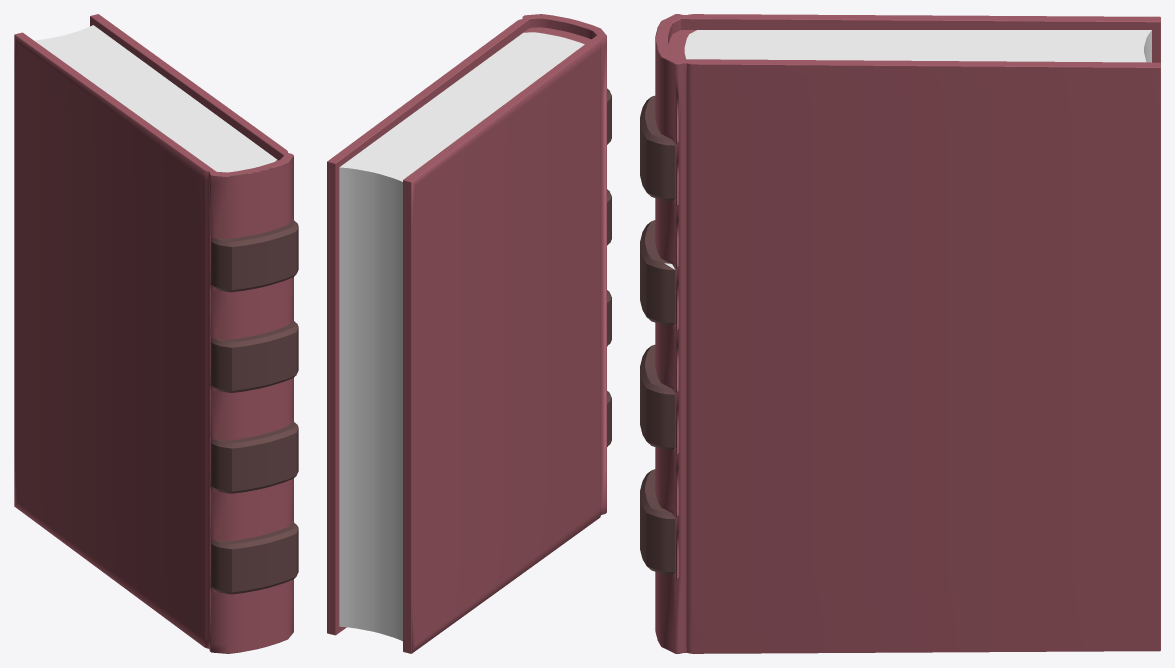
File: Book.fbx
3 views of the same model, side by side, from view 1: azimuth 30°, elevation 25°; view 2: azimuth 150°, elevation 25°; view 3: azimuth 270°, elevation 25° (orthographic). The views are drawn at different scales.
Parts seen in each view (by area): view 1: Book2; view 2: Book2; view 3: Book2.
Part boxes in pixels (x1,y1,x2,y2): Book2: (14,14,298,653); Book2: (327,14,611,653); Book2: (640,14,1160,653).
Size of the model in its own units: 0.0759 by 0.4094 by 0.3273.
